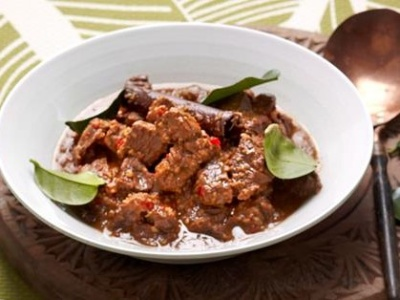rendang: (74, 93, 289, 228)
